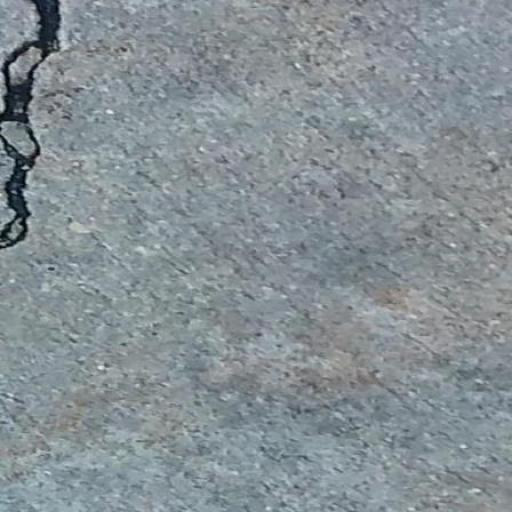spalling: (0, 9, 77, 257)
